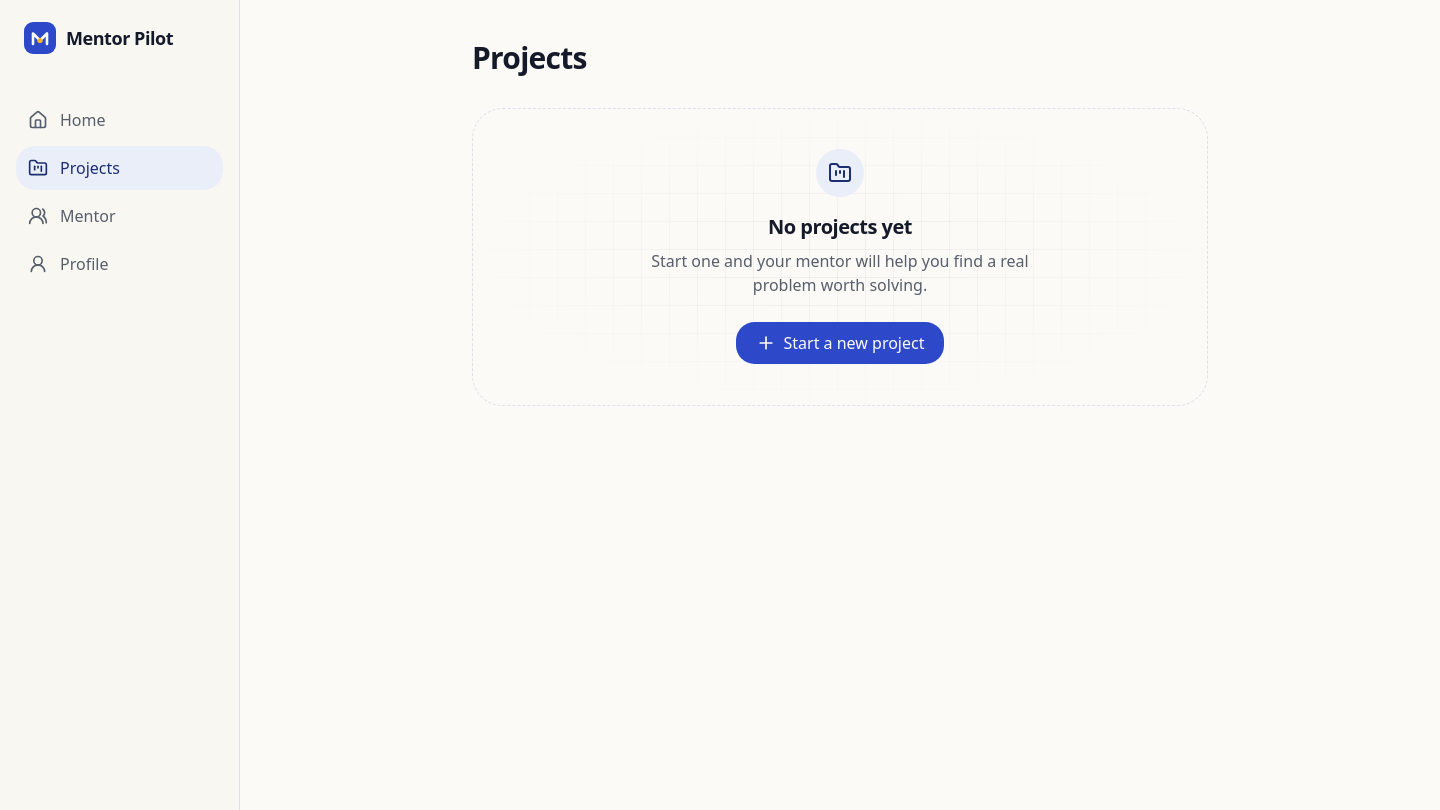
Test: projects › starts a project in one tap and opens its chat
Click the button "Start a new project" at point(840, 343), box [734,321,946,365]
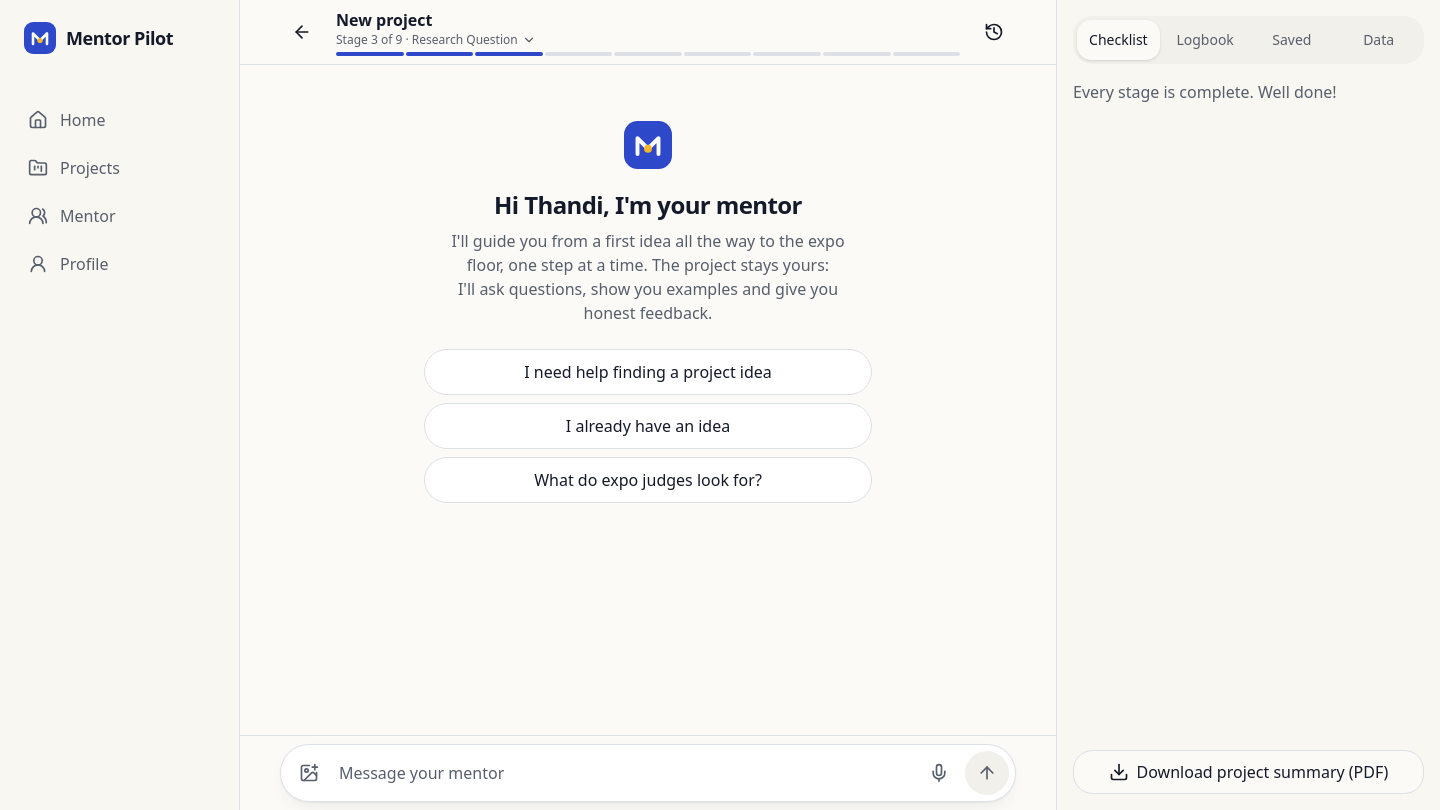
Check: the text box labelled "Message your mentor" is shown, box [335,751,913,795]
